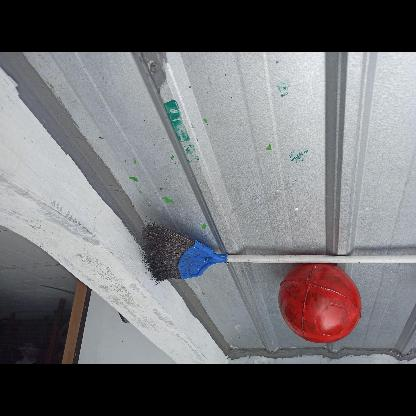red_ball: (277, 260, 361, 344)
